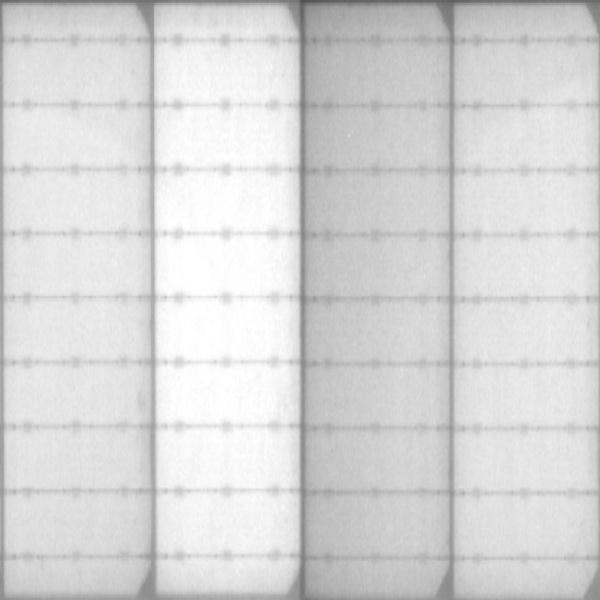hot_spot: (162, 370, 289, 419), (164, 242, 291, 291), (168, 177, 290, 228), (167, 306, 288, 353), (170, 437, 283, 482)
